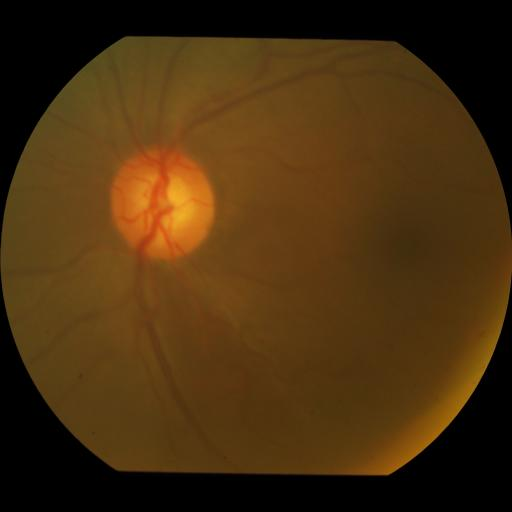Optic Cup: (132, 174, 192, 232)
Optic Disc: (111, 148, 214, 260)
